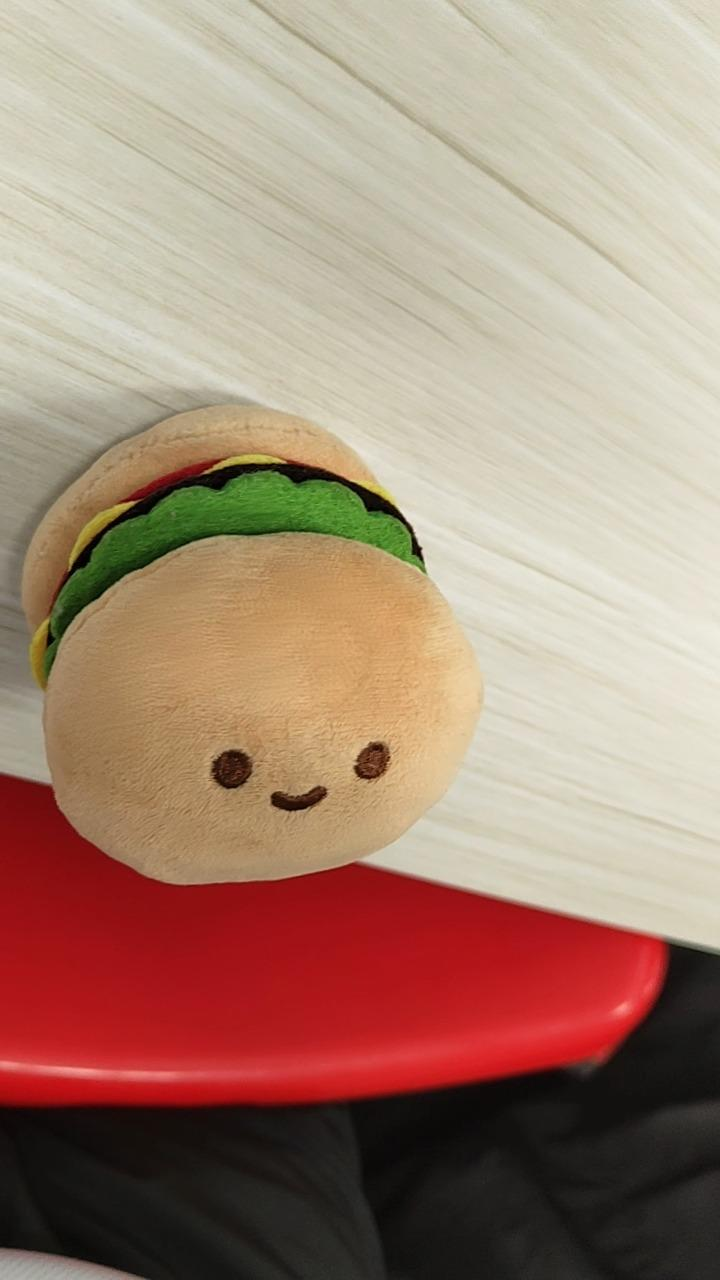hamburger: (23, 404, 486, 885)
